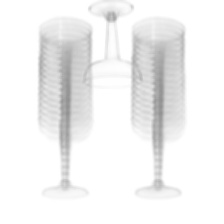glass: (124, 9, 205, 207), (33, 15, 96, 206), (75, 0, 151, 95)
